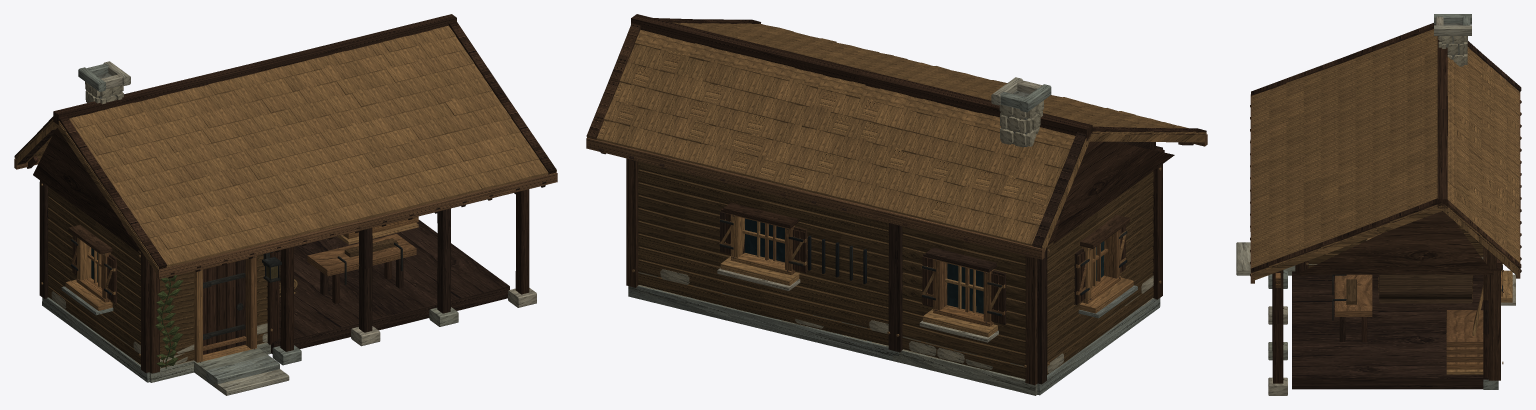
Rendered from 04_carpenter.glb.
3 renders of one model, left to right at view 1: azimuth 30°, elevation 25°; view 2: azimuth 150°, elevation 25°; view 3: azimuth 270°, elevation 25°, orthographic. The views are drawn at different scales.
Parts seen in each view (by area): view 1: 04_carpenter; view 2: 04_carpenter; view 3: 04_carpenter.
Part boxes in pixels (bbox=[...]): 04_carpenter: bbox=[14, 14, 557, 395]; 04_carpenter: bbox=[586, 14, 1207, 395]; 04_carpenter: bbox=[1236, 14, 1521, 395].
Size of the model in its own units: 6.28 by 3.61 by 4.16.
6 materials, 6 textured.
